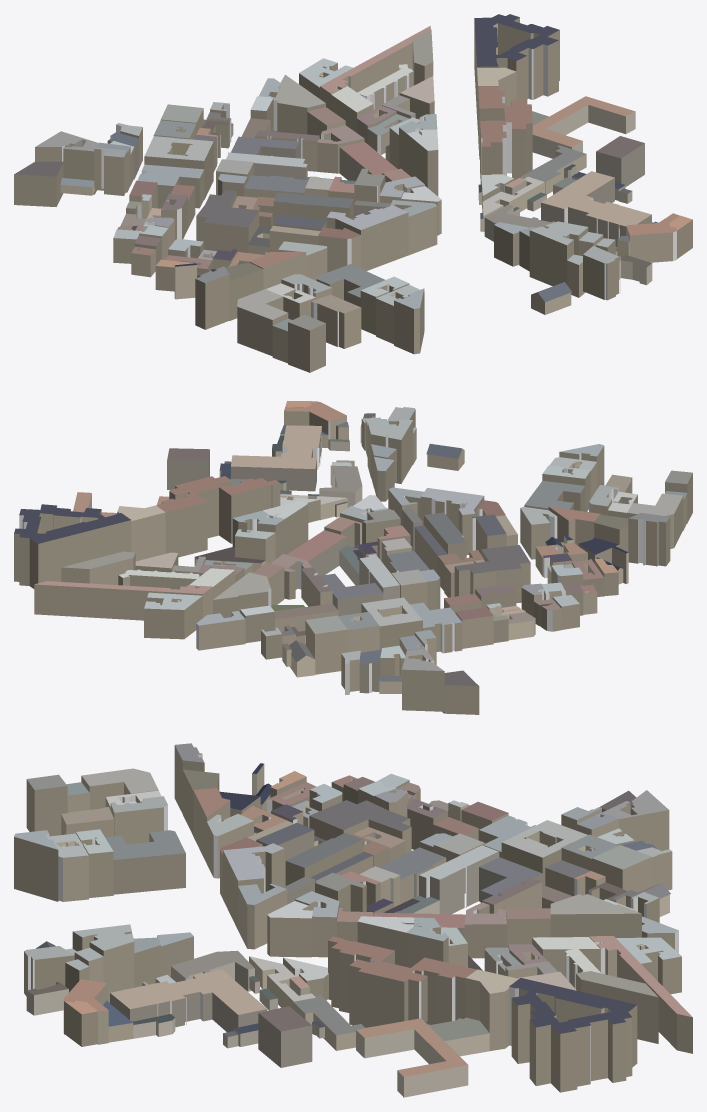
The picture shows the model from 3 angles, top to bottom: view 1: azimuth 30°, elevation 25°; view 2: azimuth 150°, elevation 25°; view 3: azimuth 270°, elevation 25°; orthographic projection. The views are drawn at different scales.
Visible parts, largest first — view 1: tuile; view 2: tuile; view 3: tuile.
Boxes of the visible parts, x1,y1,x2,y2 form: tuile: (14,14,692,372); tuile: (14,401,692,714); tuile: (14,743,692,1097).
Bounding box in the file's own units: 285 × 36.37 × 274.
